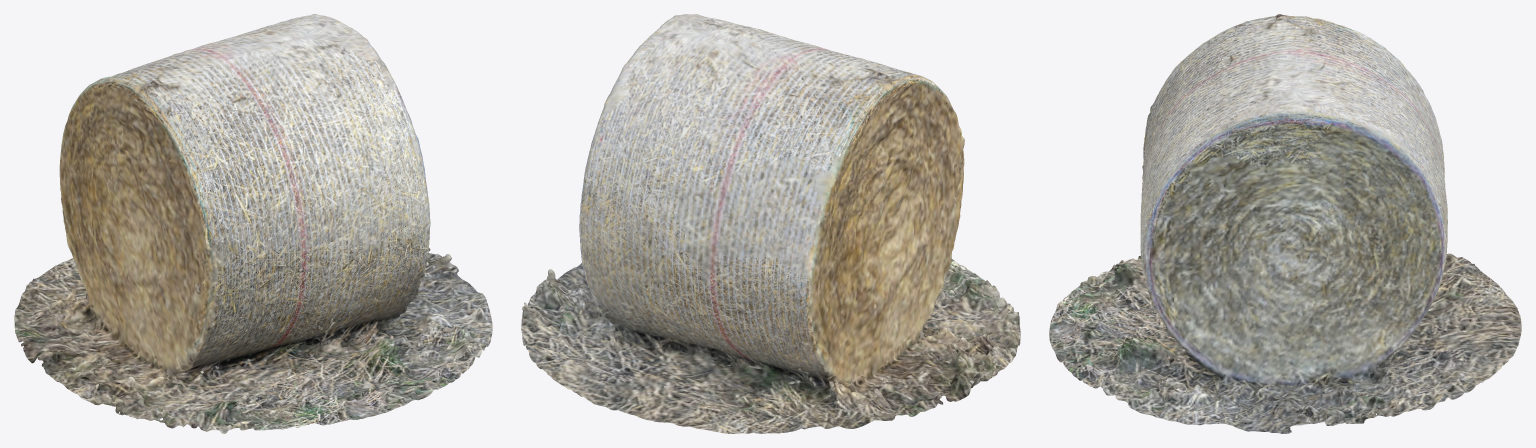
Rendered from hay_bales.glb.
3 views of the same model, side by side, from view 1: azimuth 30°, elevation 25°; view 2: azimuth 150°, elevation 25°; view 3: azimuth 270°, elevation 25° (orthographic). The views are drawn at different scales.
Visible parts, largest first — view 1: Object_4, Object_5; view 2: Object_4, Object_5; view 3: Object_4, Object_5.
Part boxes in pixels (x1,y1,x2,y2): Object_4: (14,14,492,433); Object_5: (20,20,344,430); Object_4: (521,14,1020,433); Object_5: (523,22,1020,428); Object_4: (1049,14,1521,433); Object_5: (1072,14,1462,414).
Bounding box in the file's own units: 2.24 × 1.45 × 2.24.
1 material, 1 textured.
